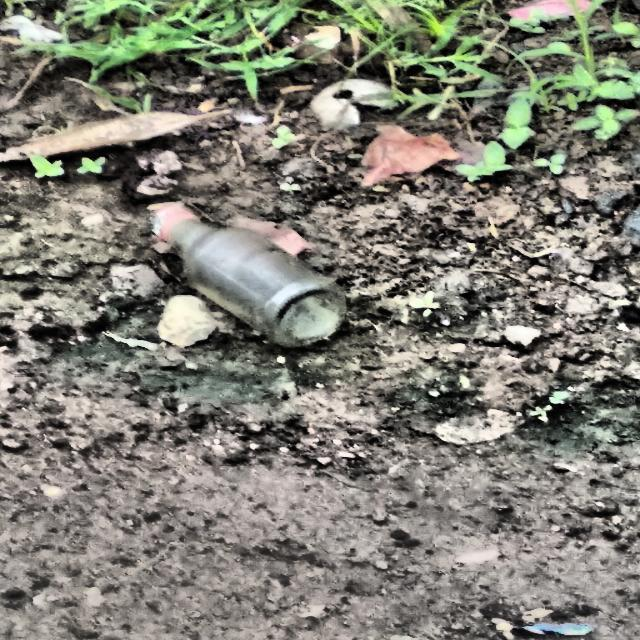anorganik: (150, 204, 356, 351)
organik: (0, 110, 211, 163), (359, 123, 462, 182)
